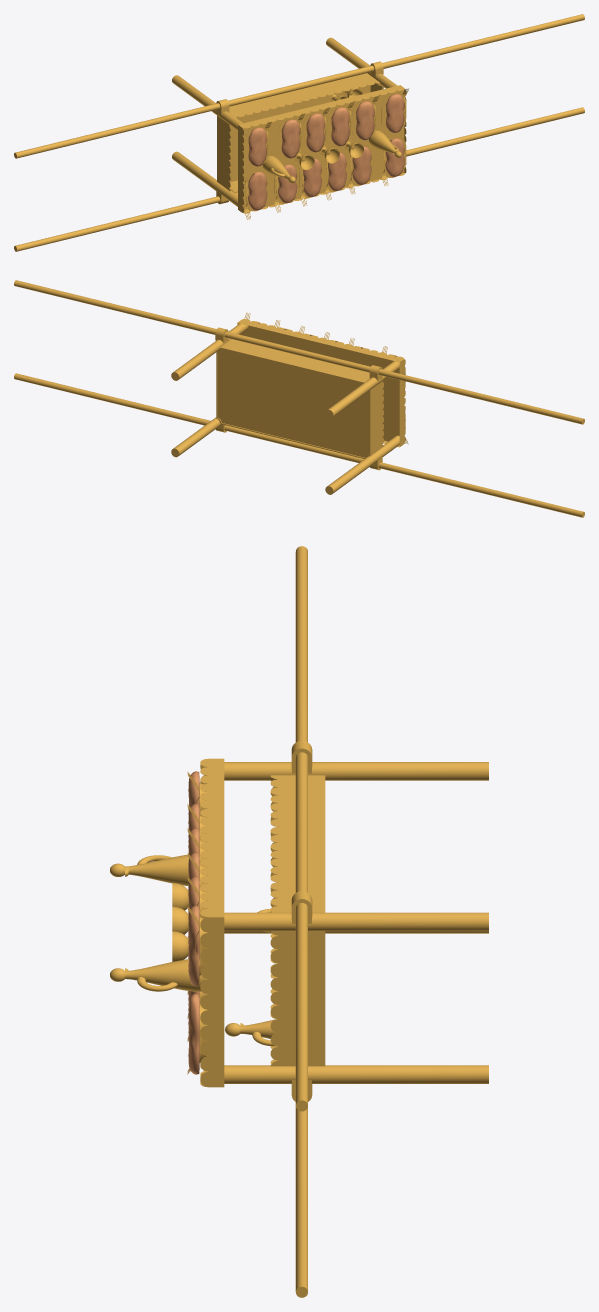
File: tabernacle-table-shewbread-detail.optimized.glb
3 views of the same model, one above another, from view 1: azimuth 30°, elevation 25°; view 2: azimuth 150°, elevation 25°; view 3: azimuth 270°, elevation 25° (orthographic). The views are drawn at different scales.
Parts seen in each view (by area): view 1: Border.002; view 2: Border.002; view 3: Border.002.
Boxes of the visible parts, left/top/right/bottom form: Border.002: left=14, top=14, right=584, bottom=251; Border.002: left=14, top=280, right=584, bottom=517; Border.002: left=110, top=546, right=488, bottom=1297.
Size of the model in its own units: 7 by 1.21 by 2.02.
2 materials, 1 textured.
